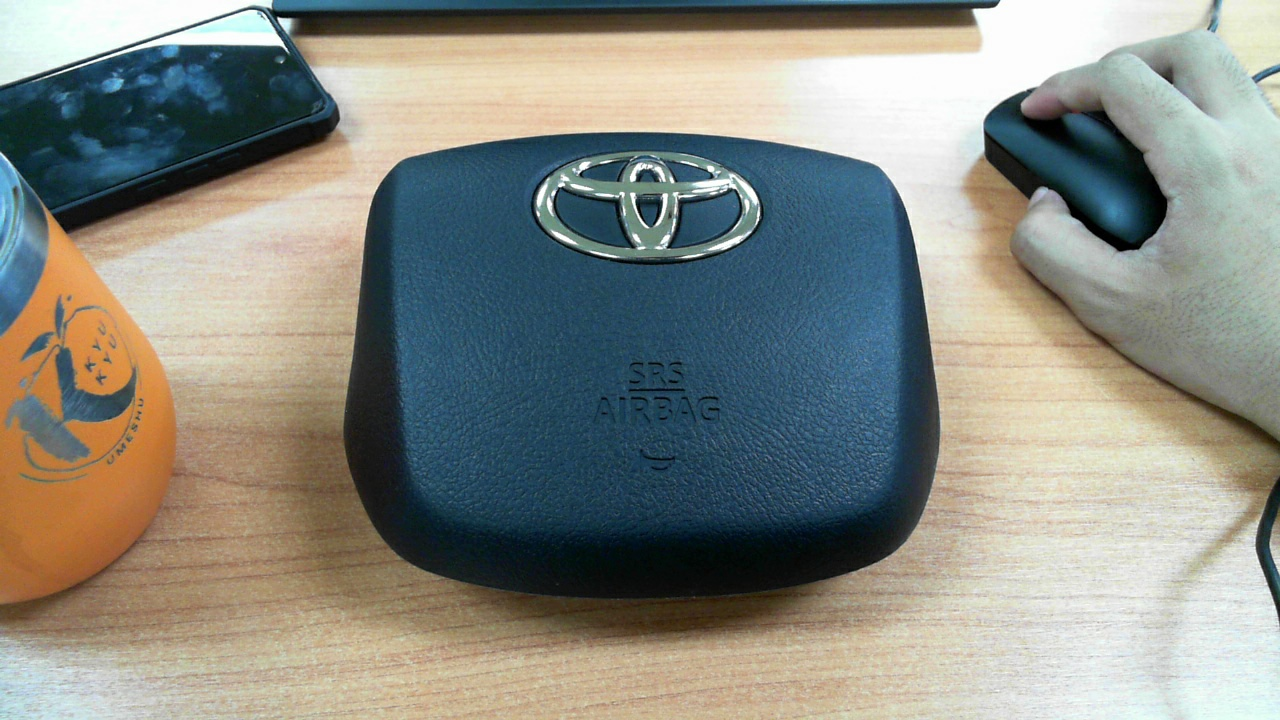Airbag: (297, 93, 984, 626)
